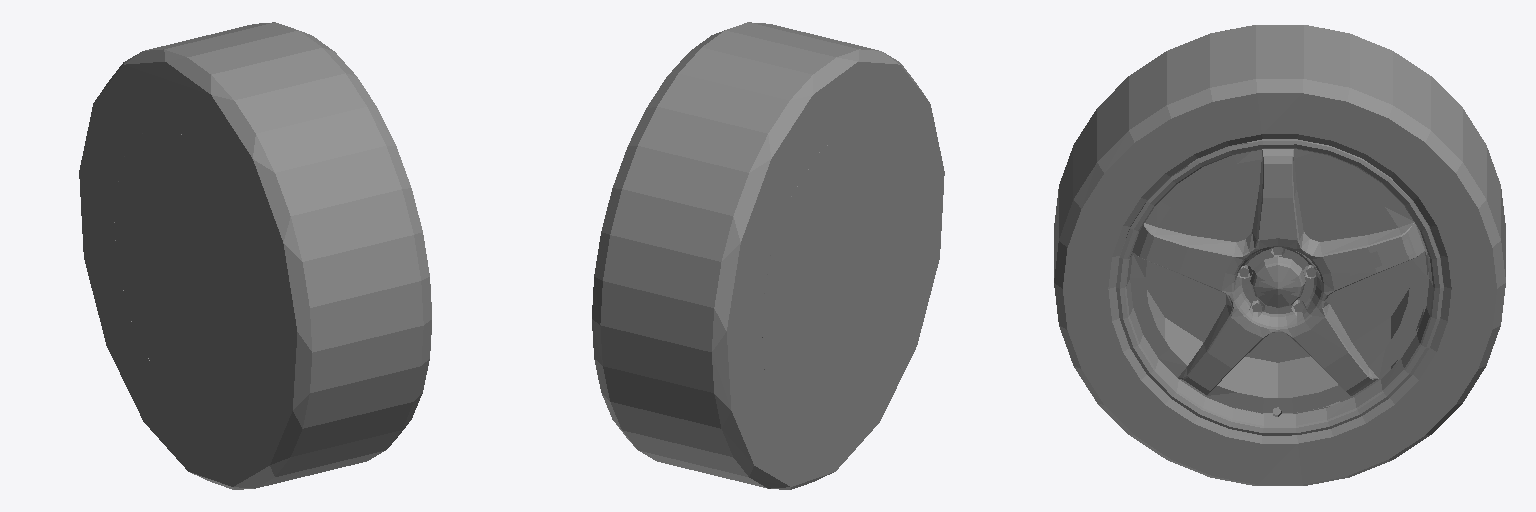
Rendered from Wheel.obj.
3 views of the same model, side by side, from view 1: azimuth 30°, elevation 25°; view 2: azimuth 150°, elevation 25°; view 3: azimuth 270°, elevation 25° (orthographic).
Visible parts, largest first — view 1: Mesh_0280; view 2: Mesh_0280; view 3: Mesh_0280, Mesh_0276, Mesh_0262.
Boxes of the visible parts, <box> form: Mesh_0280: <box>79,22,431,489</box>; Mesh_0280: <box>592,22,944,489</box>; Mesh_0280: <box>1054,25,1505,485</box>; Mesh_0276: <box>1126,139,1428,413</box>; Mesh_0262: <box>1116,141,1443,435</box>.
Size of the model in its own units: 0.501 by 1.44 by 1.45.